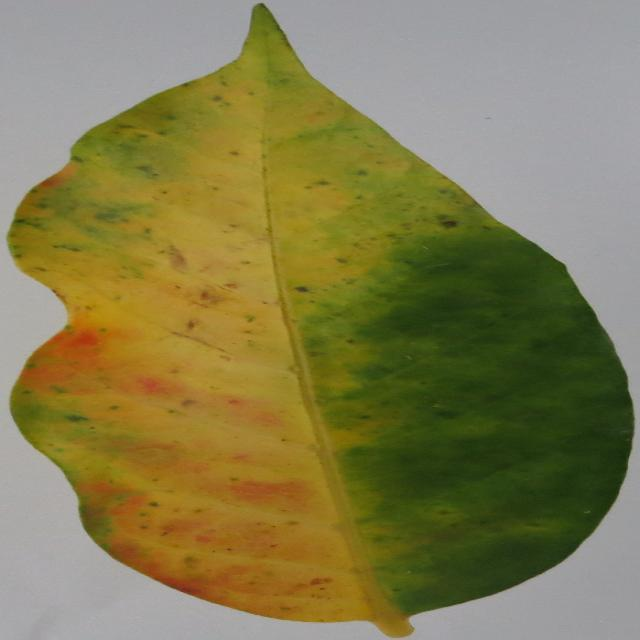DeficienciaNutricional-Fosforo: (9, 5, 631, 636)
